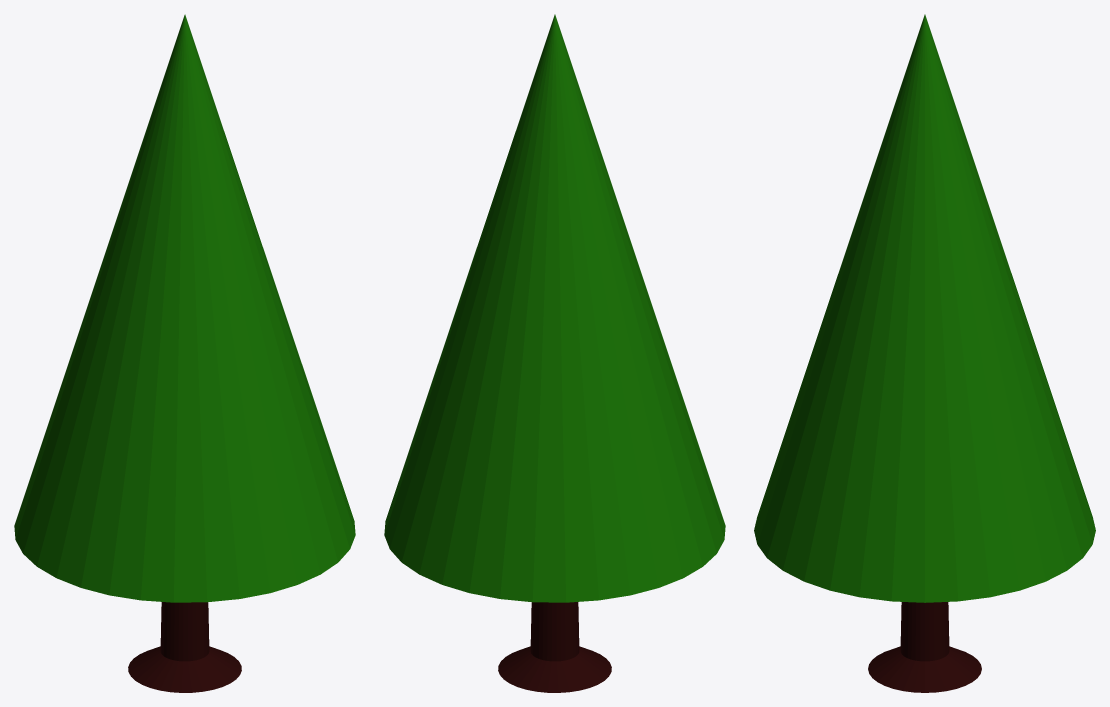
Rendered from TreePlaceholder1.dae.
3 views of the same model, side by side, from view 1: azimuth 30°, elevation 25°; view 2: azimuth 150°, elevation 25°; view 3: azimuth 270°, elevation 25° (orthographic).
Visible parts, largest first — view 1: PineTreeTop, PineTreeBase; view 2: PineTreeTop, PineTreeBase; view 3: PineTreeTop, PineTreeBase.
Part boxes in pixels (box(x1,y1,x2,y2)): PineTreeTop: box(14, 14, 355, 602); PineTreeBase: box(128, 602, 241, 692); PineTreeTop: box(384, 14, 725, 602); PineTreeBase: box(498, 602, 611, 692); PineTreeTop: box(754, 14, 1095, 602); PineTreeBase: box(868, 602, 981, 692).
Bounding box in the file's own units: 3 × 3 × 6.34.
